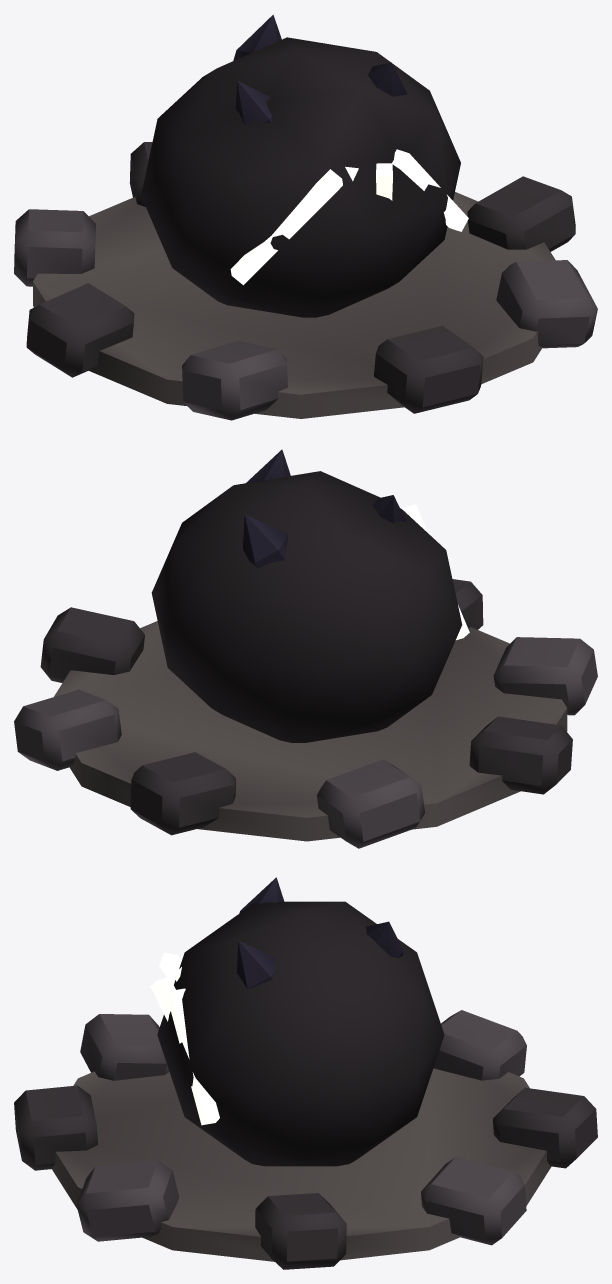
File: n_lavabomb.glb
3 views of the same model, one above another, from view 1: azimuth 30°, elevation 25°; view 2: azimuth 150°, elevation 25°; view 3: azimuth 270°, elevation 25° (orthographic). The views are drawn at different scales.
Visible parts, largest first — view 1: body, crack_glow; view 2: body; view 3: body, crack_glow.
Part boxes in pixels (<box>): body: <box>14,14,597,420</box>; crack_glow: <box>230,149,468,285</box>; body: <box>14,449,597,848</box>; body: <box>14,877,597,1269</box>; crack_glow: <box>150,952,219,1125</box>.
Bounding box in the file's own units: 2.3 × 1.07 × 2.27.
